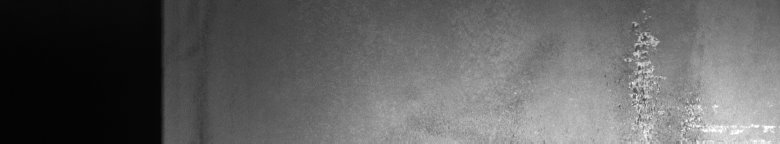hc: (604, 8, 774, 136)
